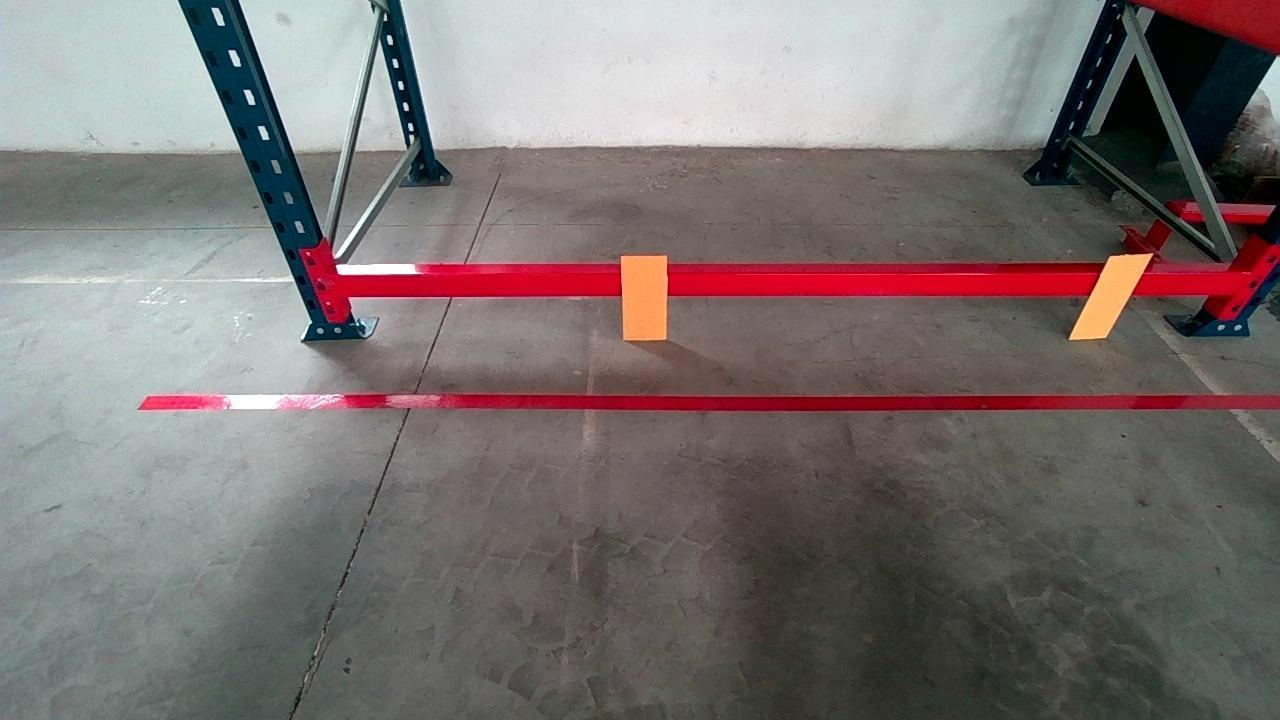h_rack: (341, 267, 1255, 299)
orange_strip: (1069, 255, 1152, 337), (622, 255, 668, 339)
red_line: (137, 394, 1280, 414)
